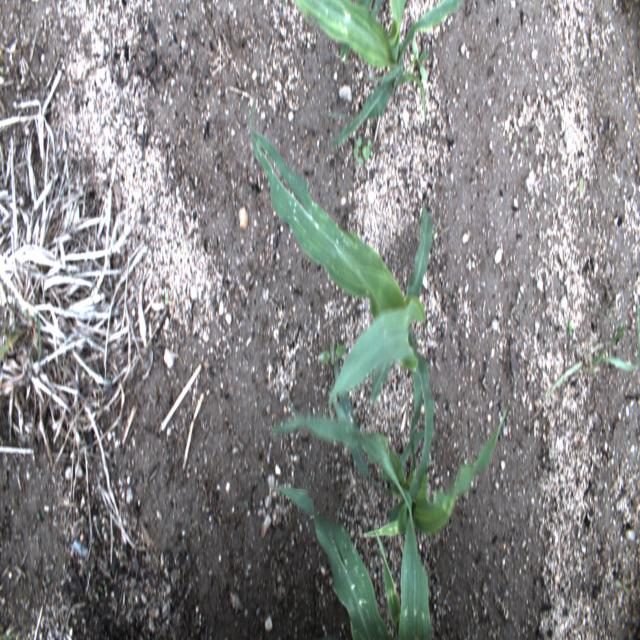crop: (250, 93, 434, 525), (271, 362, 507, 538), (271, 417, 434, 637), (292, 0, 464, 146)
weed: (532, 287, 639, 423), (412, 25, 428, 85), (314, 340, 348, 365), (352, 135, 373, 167)
